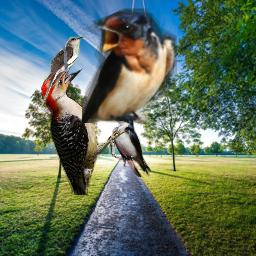Cuckoo: (41, 36, 84, 108)
Swallow: (82, 8, 177, 123), (112, 114, 151, 177)
Woodpecker: (41, 59, 131, 195)
